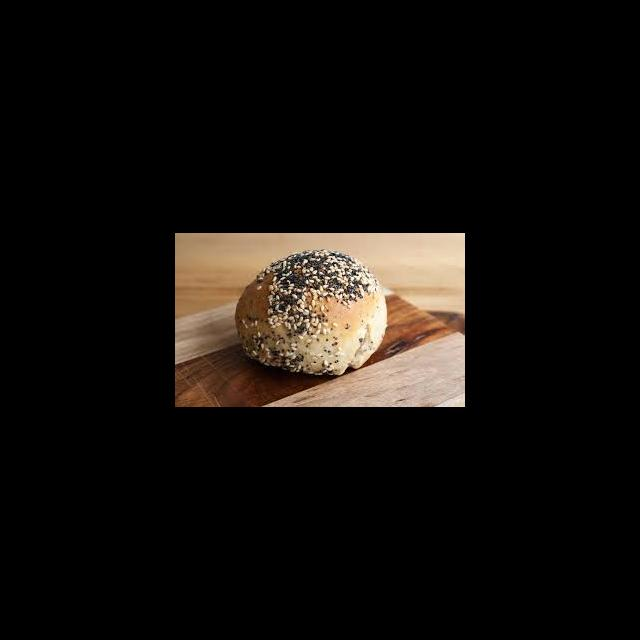food_waste: (226, 244, 395, 380)
